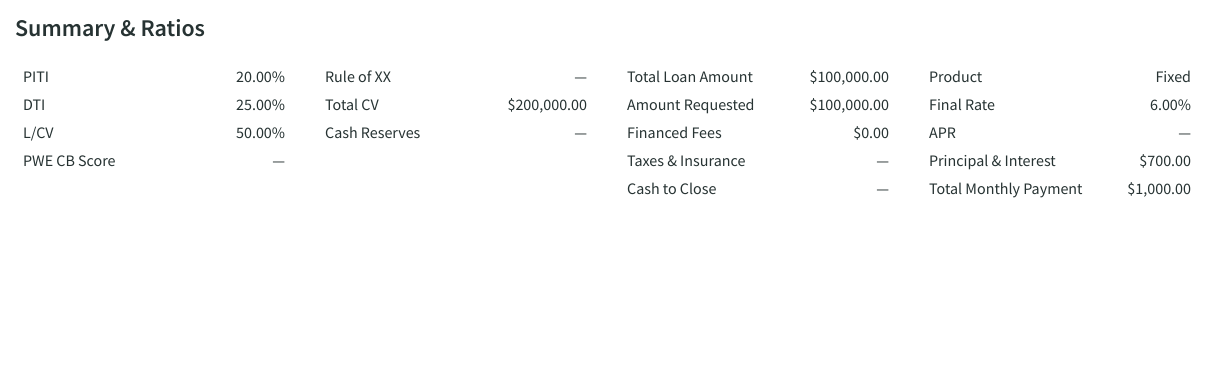
Test case: Summary saved-data UI and PITI breakdown › opens a numeric first-payment breakdown on hover
This screenshot has width=1208, height=387.
Step 1. Hover over the text with test id "text-piti" → (260, 76), box [236, 68, 285, 84]
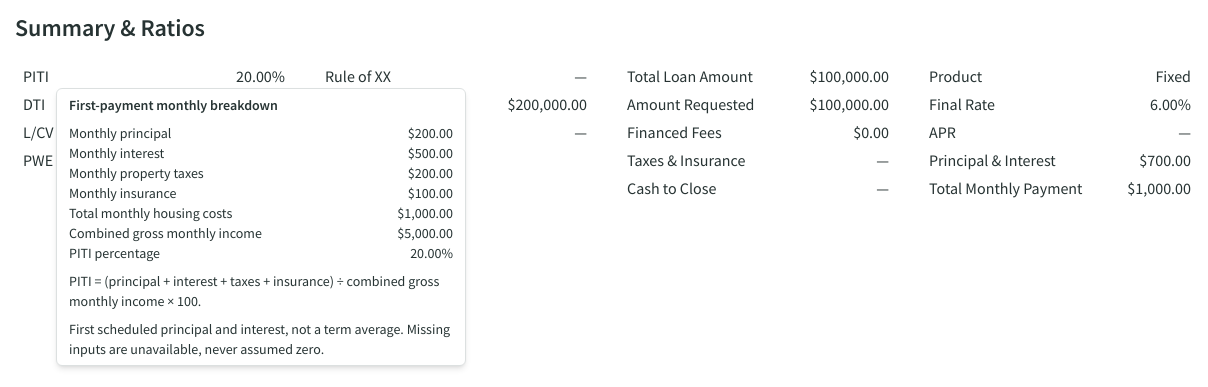
Check: the text "First-payment monthly breakdown" is shown, box [69, 96, 278, 114]
Check: the text "Monthly principal" is shown, box [69, 123, 172, 143]
Check: the text "Monthly interest" is shown, box [69, 143, 164, 163]
Step 2. Move the pointer off the text with test id "text-piti", box [236, 68, 285, 84]
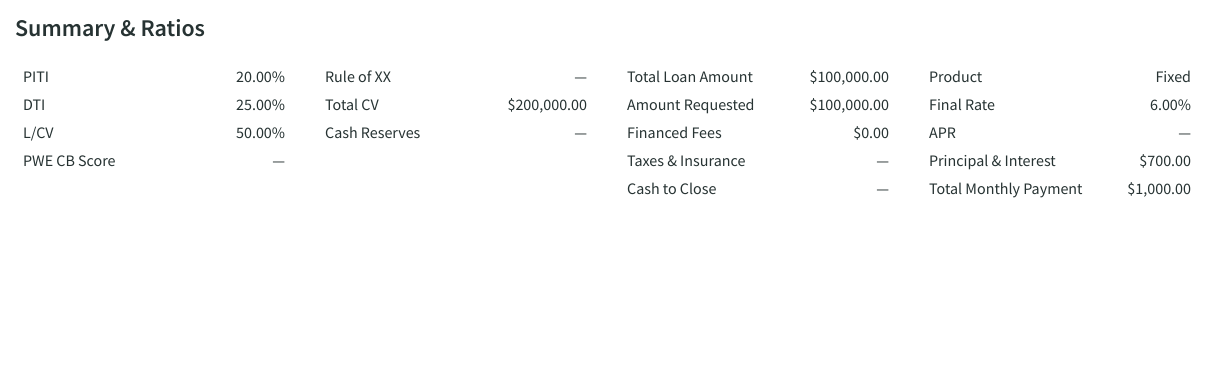
Check: the tooltip is gone
